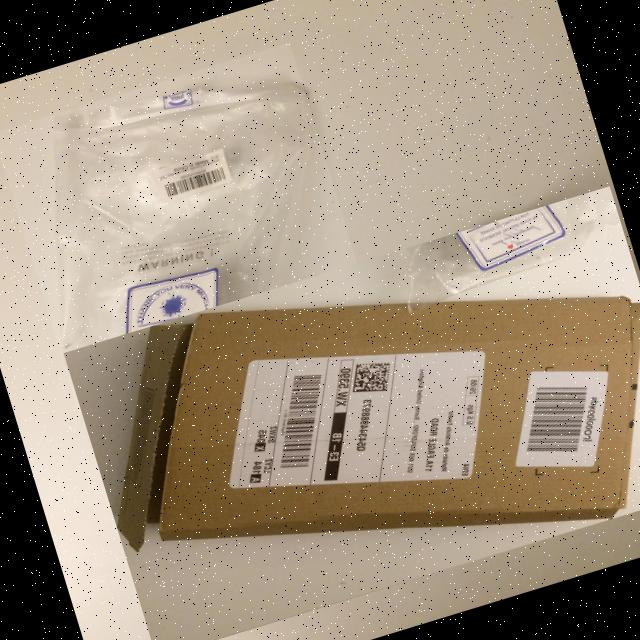Corrugated carton: (117, 296, 640, 553)
Plastic film: (54, 82, 307, 391)
